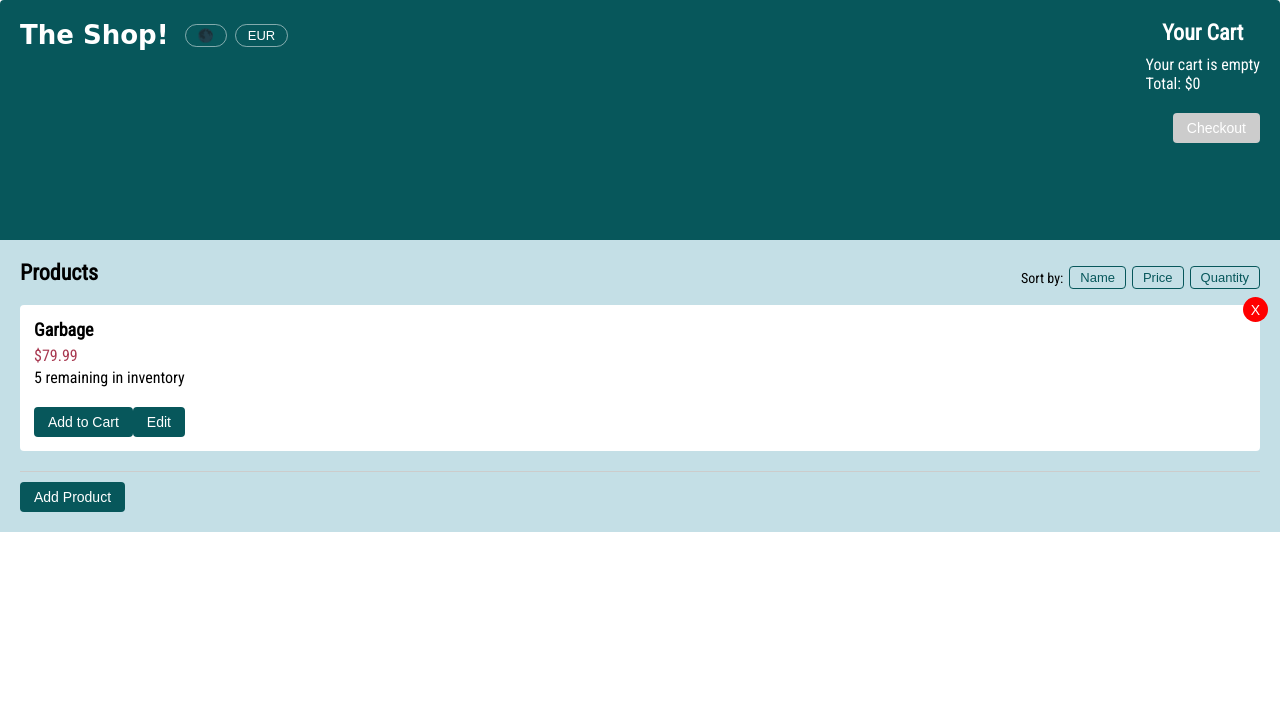
adding product to cart causes appearance in cart
This screenshot has width=1280, height=720.
What coordinates should you click on to do the following:
click the button "Add to Cart"
I would click on:
 (83, 422)
Its box is [34,407,133,437].
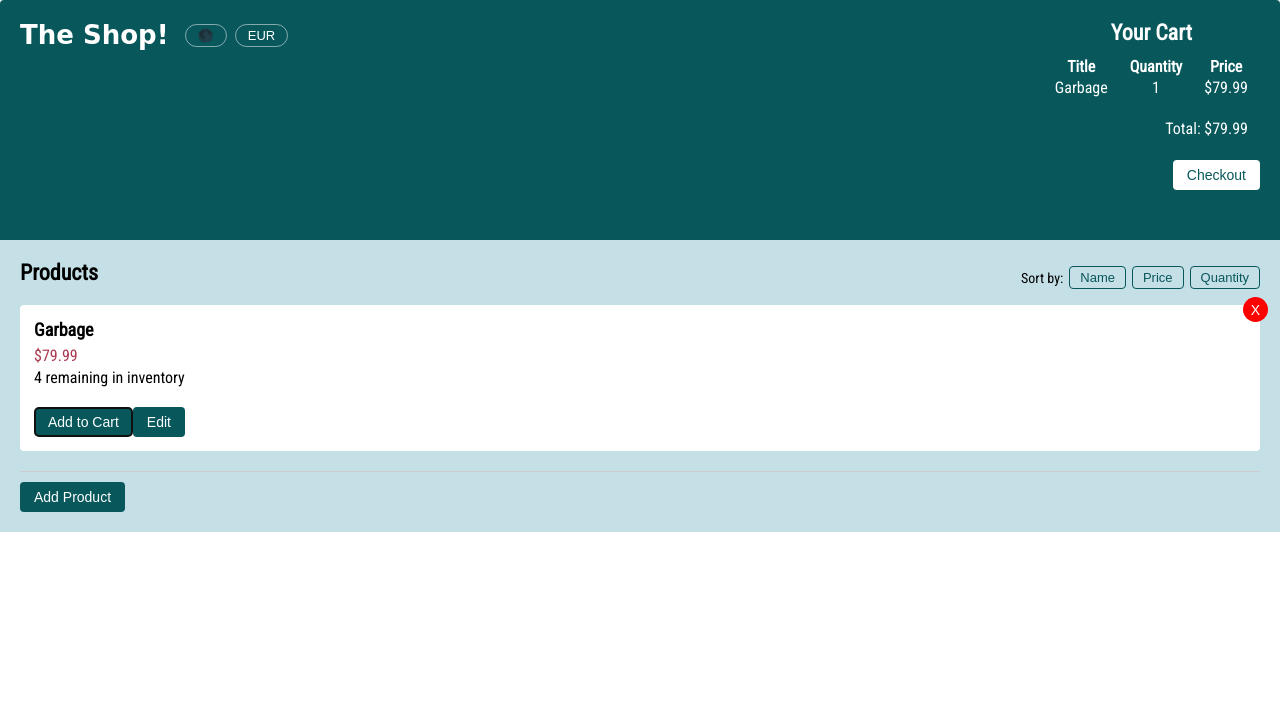
Now the cell "Garbage" is shown, box [1045,78,1118,97]
